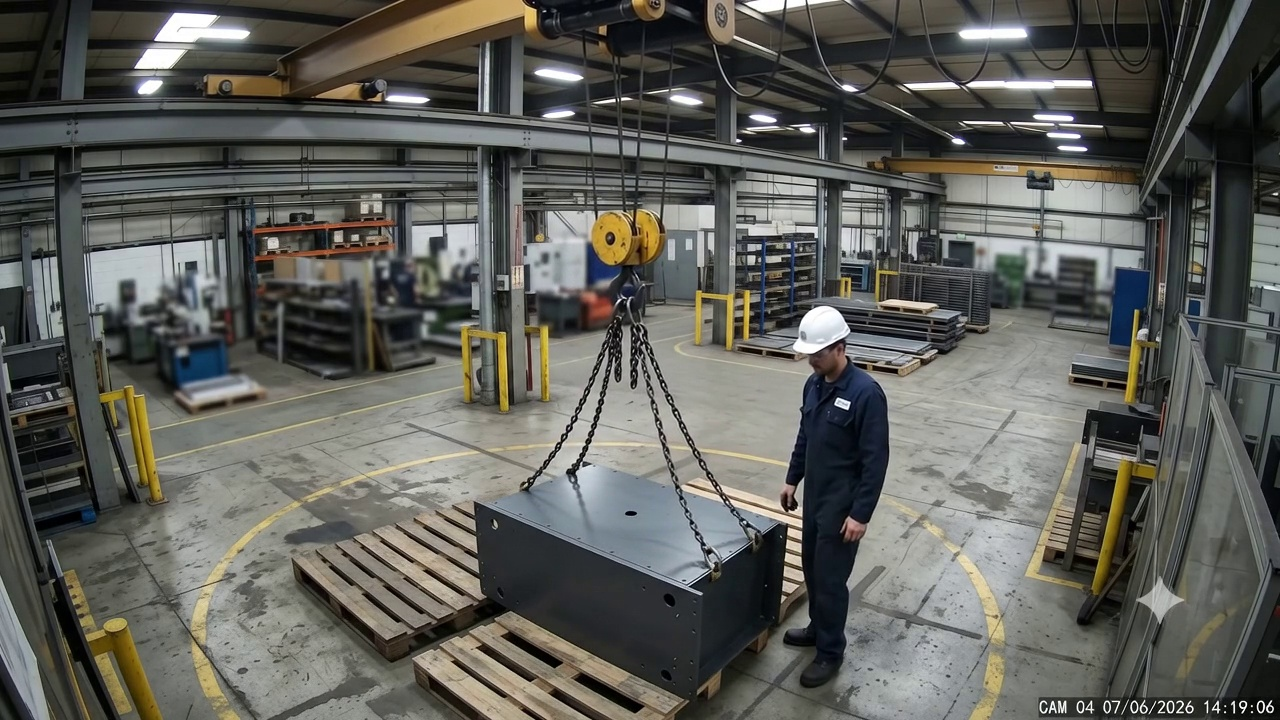person: (779, 306, 890, 691)
